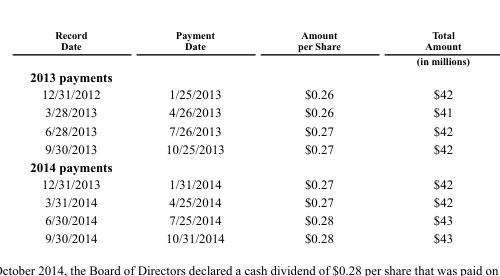table: (29, 29, 468, 244)
table column: (132, 29, 260, 244), (260, 29, 377, 244), (29, 29, 132, 244), (377, 29, 468, 244)
table column header: (29, 29, 468, 68)
table projected row header: (29, 68, 468, 85), (29, 157, 468, 174)
table row: (29, 29, 468, 68), (29, 85, 468, 103), (29, 103, 468, 121), (29, 121, 468, 139), (29, 139, 468, 157), (29, 174, 468, 192), (29, 192, 468, 210), (29, 210, 468, 228), (29, 68, 468, 85), (29, 157, 468, 174), (29, 228, 468, 244)
